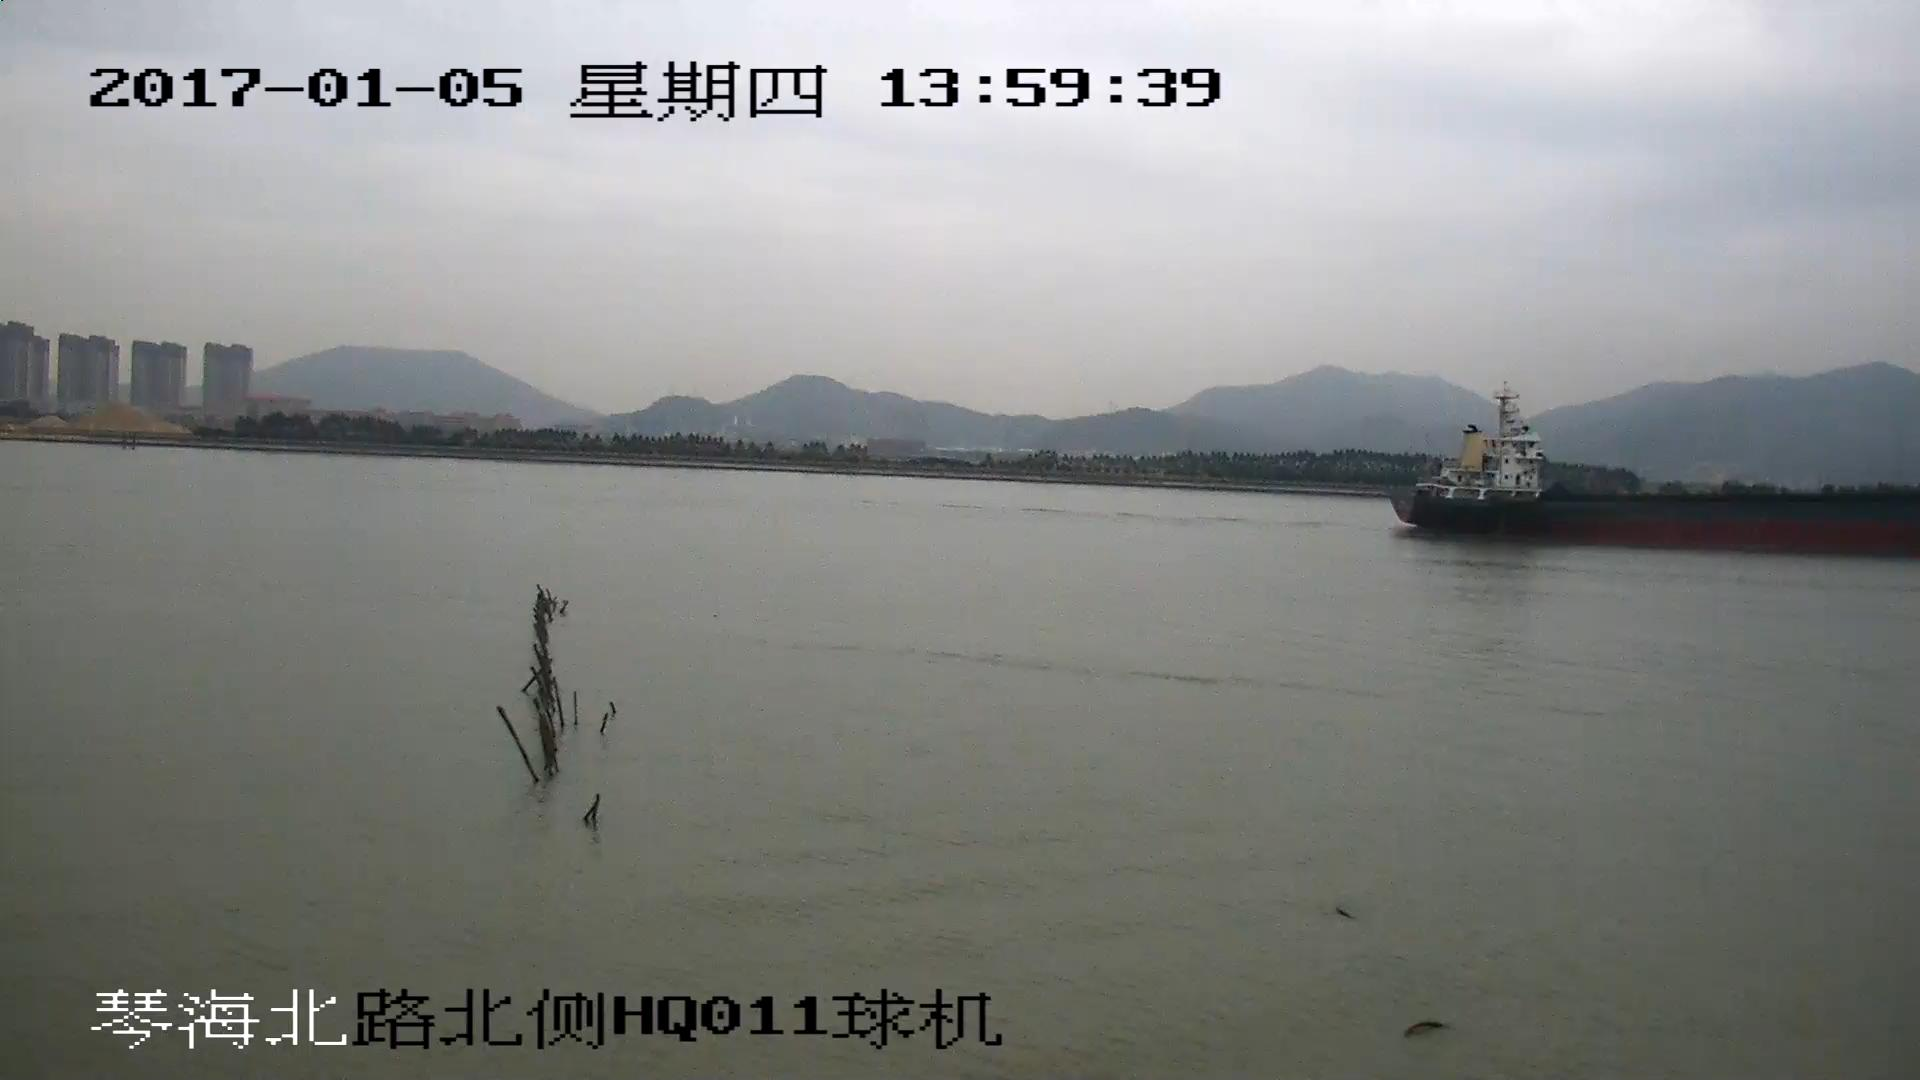general cargo ship: (1390, 388, 1920, 564)
